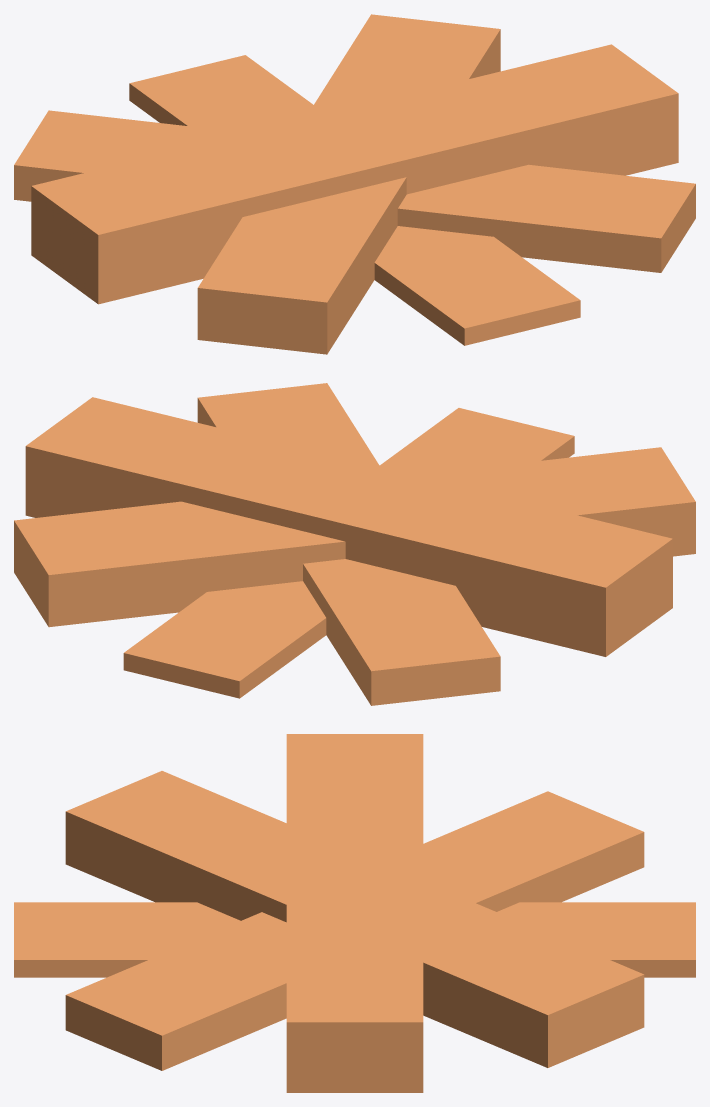
Rendered from campfire_large.fbx.
The picture shows the model from 3 angles, top to bottom: view 1: azimuth 30°, elevation 25°; view 2: azimuth 150°, elevation 25°; view 3: azimuth 270°, elevation 25°; orthographic projection.
Parts seen in each view (by area): view 1: campfire_large; view 2: campfire_large; view 3: campfire_large.
Boxes of the visible parts, box(x1,y1,x2,y2) form: campfire_large: box(14, 14, 695, 354); campfire_large: box(14, 383, 695, 705); campfire_large: box(14, 734, 695, 1092).
Size of the model in its own units: 3.5 by 0.4 by 3.5.
